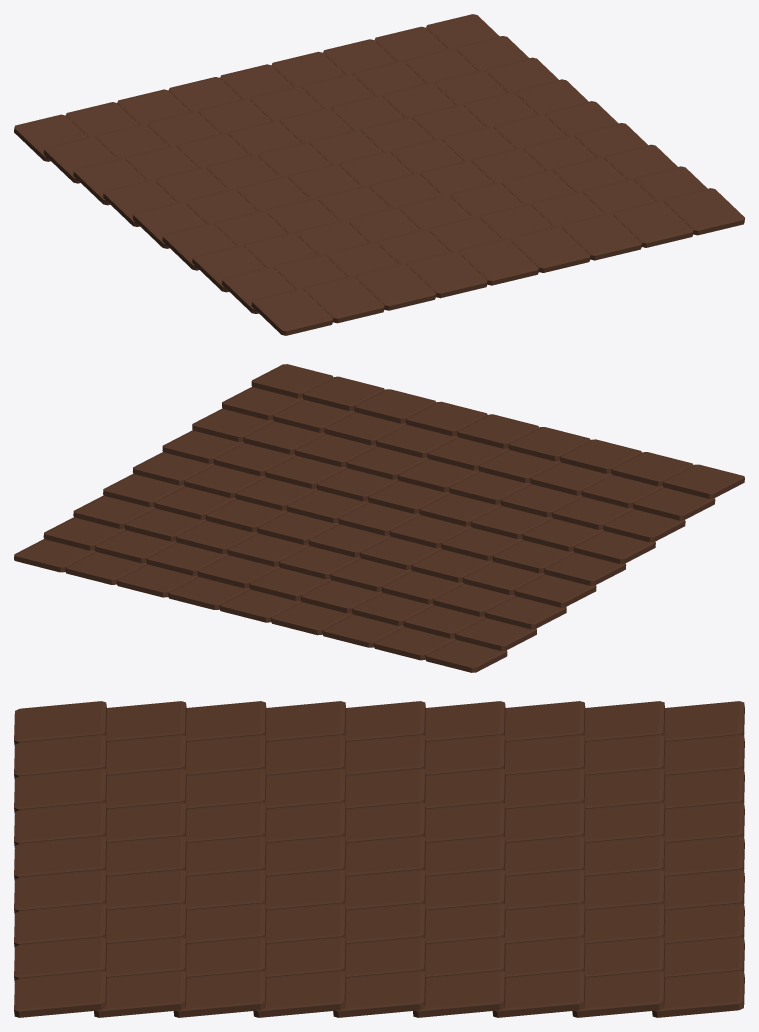
Rendered from RoofTile.fbx.
The picture shows the model from 3 angles, top to bottom: view 1: azimuth 30°, elevation 25°; view 2: azimuth 150°, elevation 25°; view 3: azimuth 270°, elevation 25°; orthographic projection. The views are drawn at different scales.
Visible parts, largest first — view 1: RoofTile; view 2: RoofTile; view 3: RoofTile.
Part boxes in pixels (x1,y1,x2,y2): RoofTile: (14,14,744,335); RoofTile: (14,364,744,672); RoofTile: (14,701,744,1017).
Bounding box in the file's own units: 338 × 8.08 × 344.
